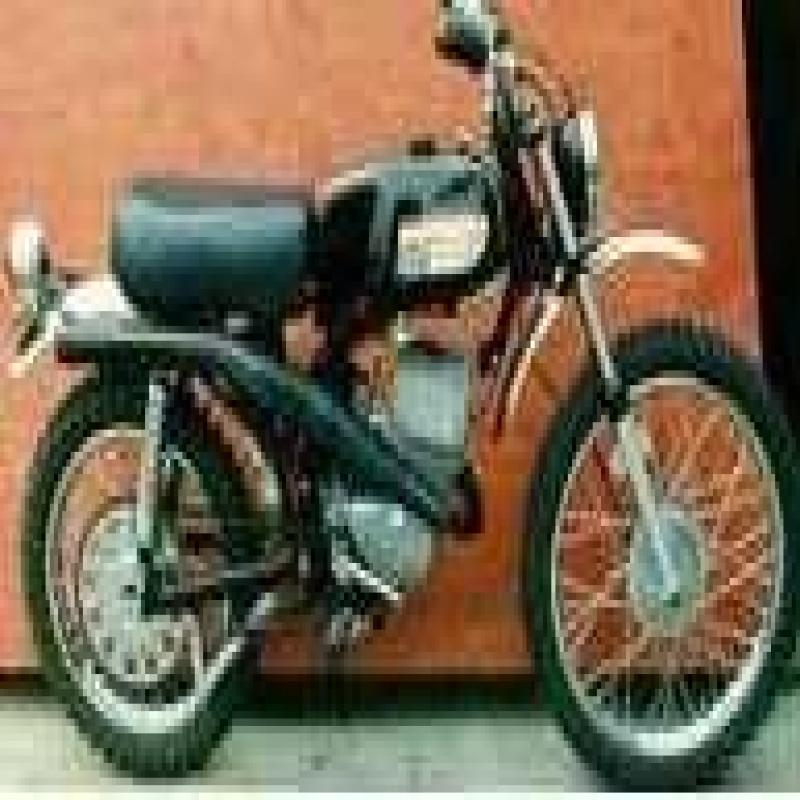bike: (12, 2, 800, 728)
